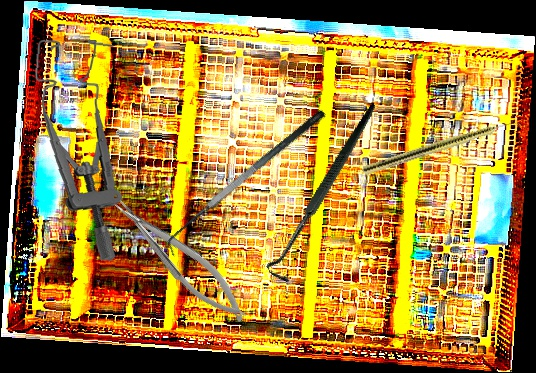Handpiece: (361, 114, 524, 178)
Hook Surgical: (221, 101, 431, 289)
Needle Holder: (107, 185, 255, 333)
Spatula Surgical: (157, 108, 338, 257)
Speculum: (21, 35, 134, 262)
